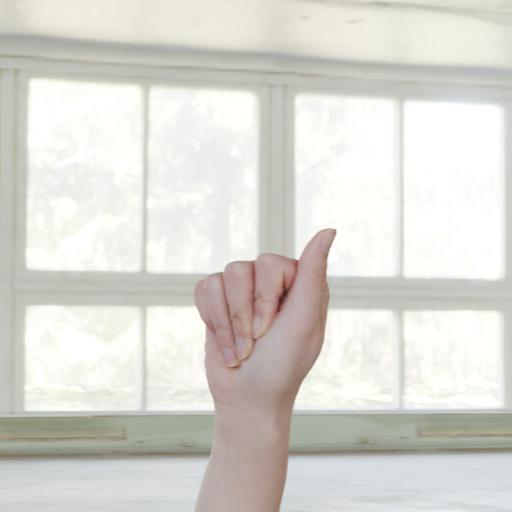A: (165, 216, 371, 401)
